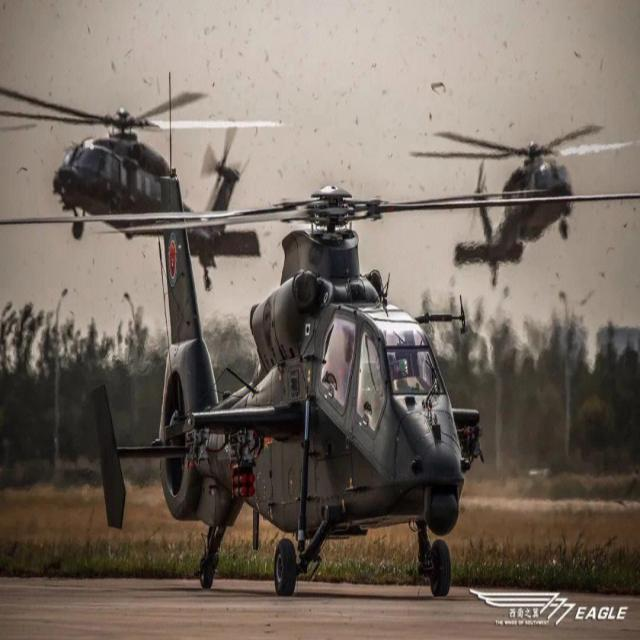MIL_HELO: (0, 182, 640, 607), (0, 66, 269, 294), (412, 120, 630, 281)
